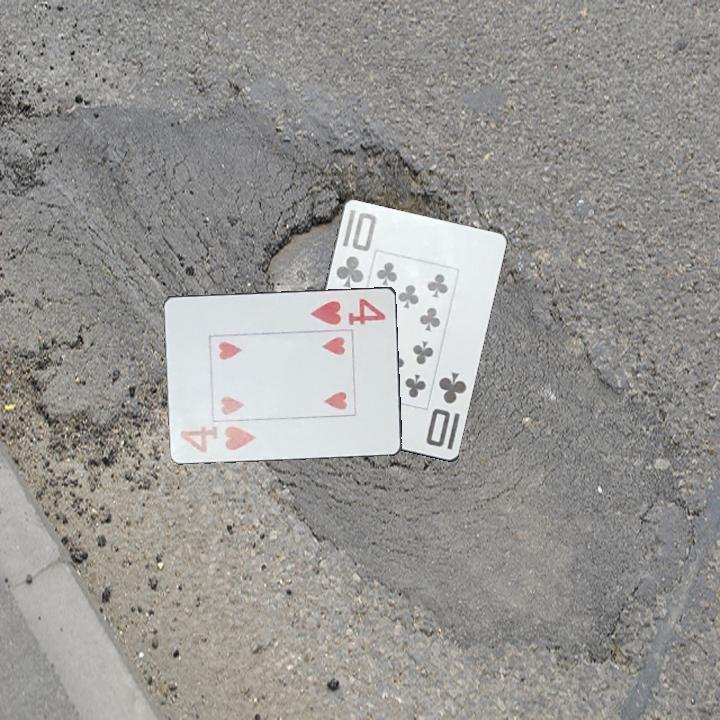4h: (307, 294, 389, 328), (176, 422, 259, 455)
Tc: (329, 206, 383, 292), (423, 368, 470, 451)
